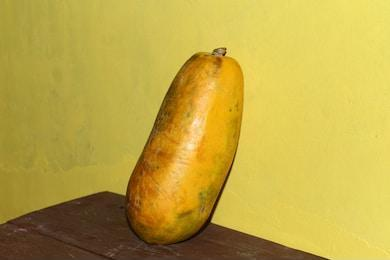papaya: (124, 44, 244, 241)
